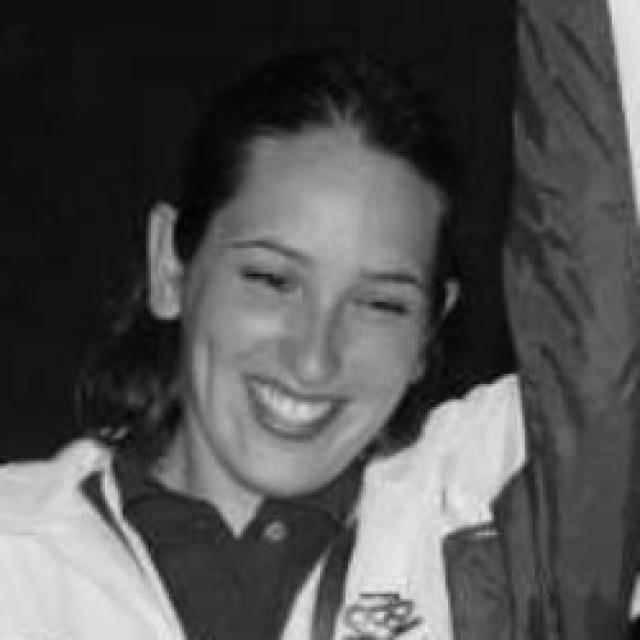real: (176, 118, 437, 500), (223, 248, 412, 325)
